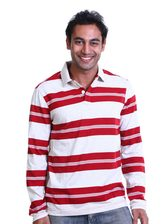clothoes: (21, 60, 152, 214)
